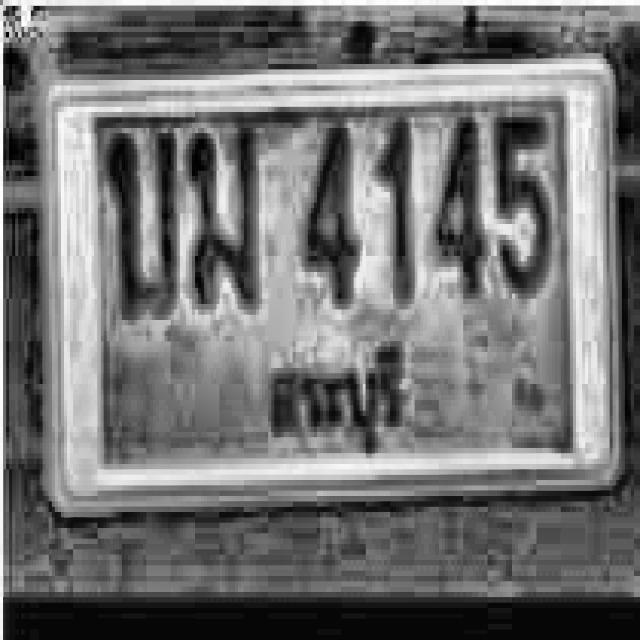license-plate: (39, 60, 626, 512)
